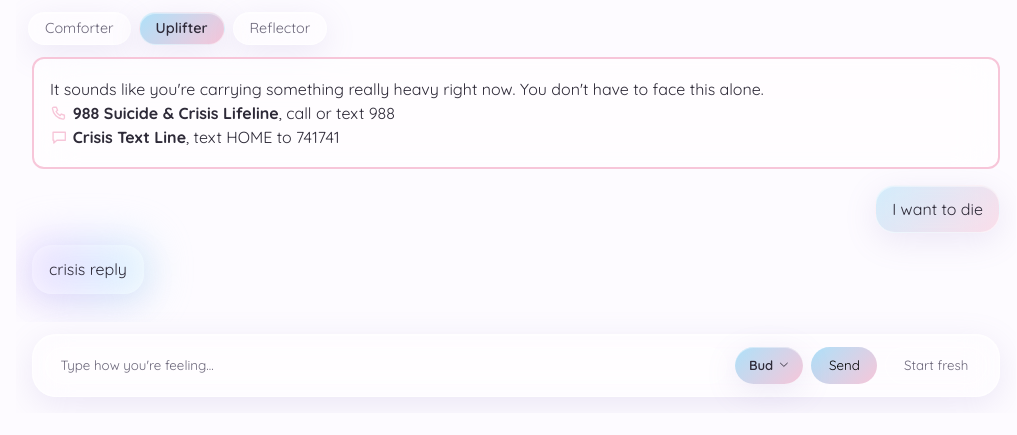
Test case: ChatWindow › hides the crisis banner once a later non-crisis message is sent
This screenshot has width=1017, height=435.
Expected: the message is shown, [32,57,1000,169]
Type "hi" into the field named "Message input". click: (386, 365)
box: [45,347,727,384]
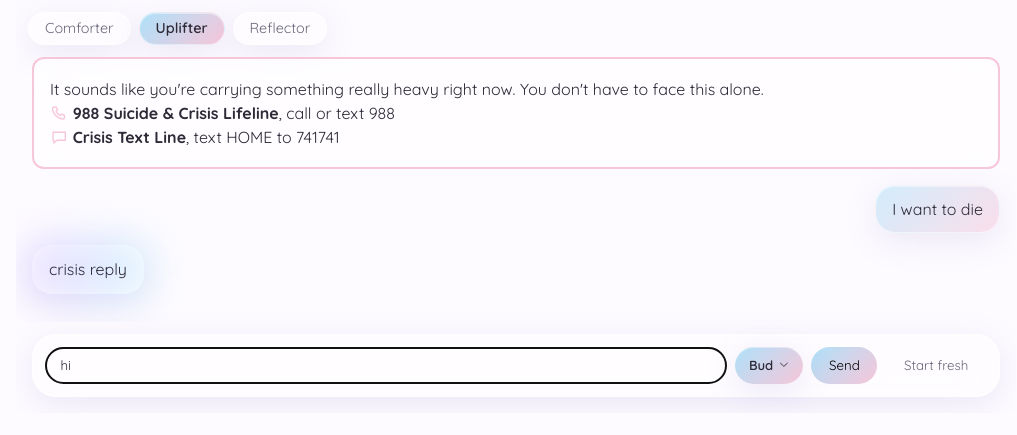
Click the button "Send". click: (844, 365)
box: [811,347,877,384]
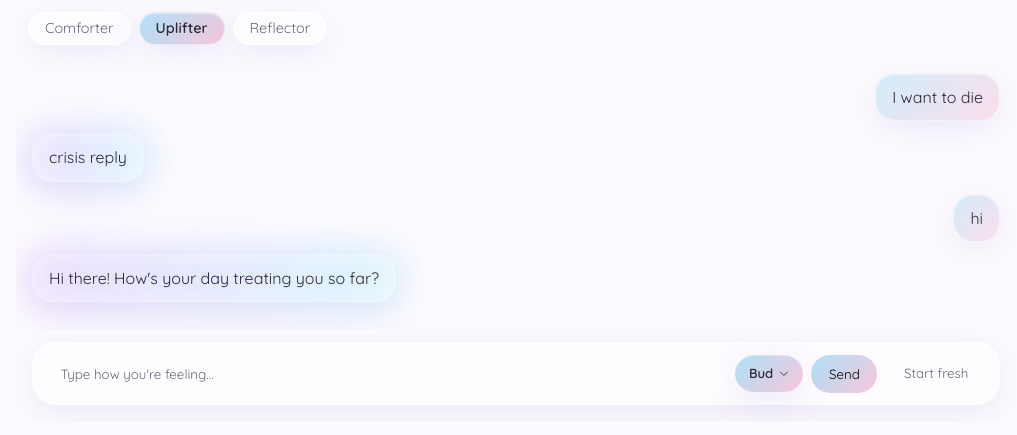
Now the message "It sounds like you're carrying something really heavy right now. You don't have" is gone
